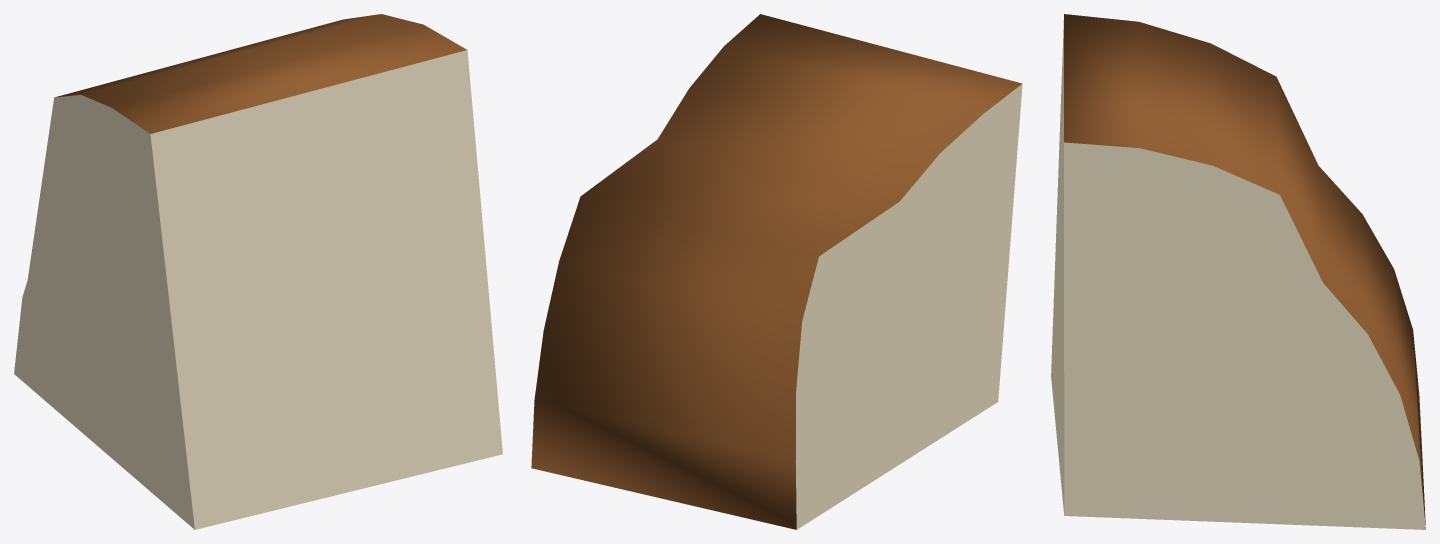
The model's file is QuarterYam.fbx.
3 renders of one model, left to right at view 1: azimuth 30°, elevation 25°; view 2: azimuth 150°, elevation 25°; view 3: azimuth 270°, elevation 25°, orthographic. The views are drawn at different scales.
Parts seen in each view (by area): view 1: Cube.002; view 2: Cube.002; view 3: Cube.002.
Boxes of the visible parts, left/top/right/bottom form: Cube.002: left=14, top=14, right=502, bottom=529; Cube.002: left=531, top=14, right=1022, bottom=529; Cube.002: left=1051, top=14, right=1425, bottom=529.
Bounding box in the file's own units: 86.23 × 88.35 × 83.71.
